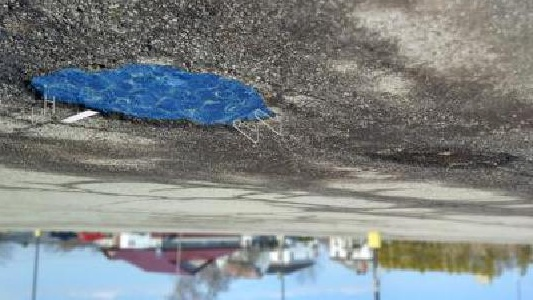pothole: (21, 64, 278, 134), (362, 145, 517, 172)
